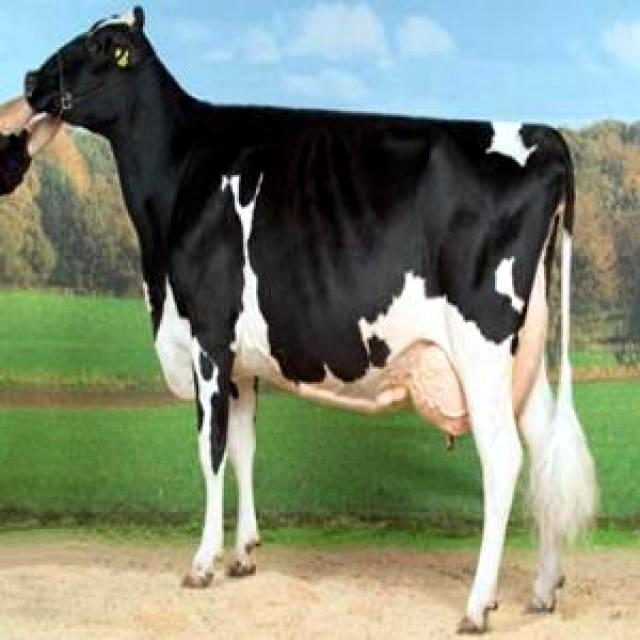COW: (26, 8, 594, 625)
